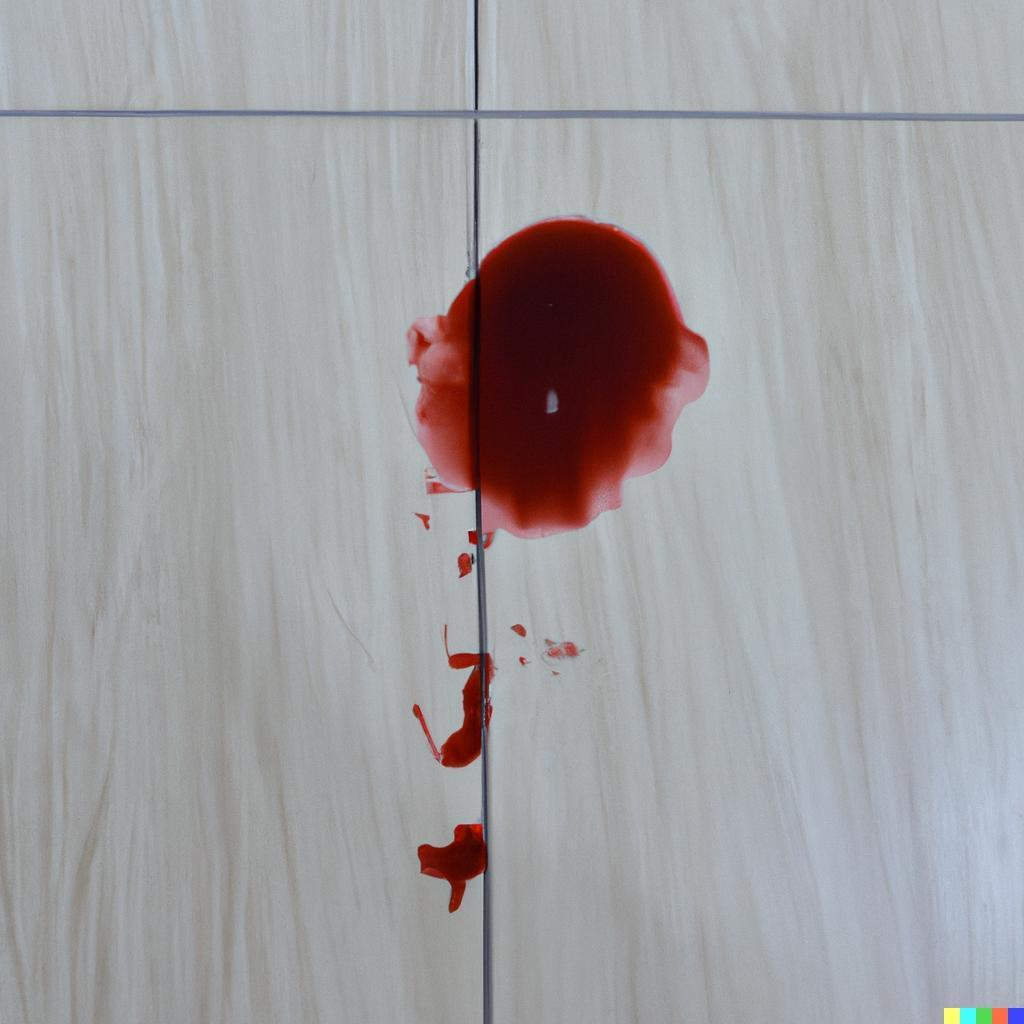Bloodstain-Detection: (422, 220, 714, 533)
